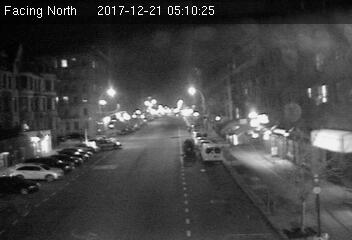truck: (201, 143, 223, 162)
